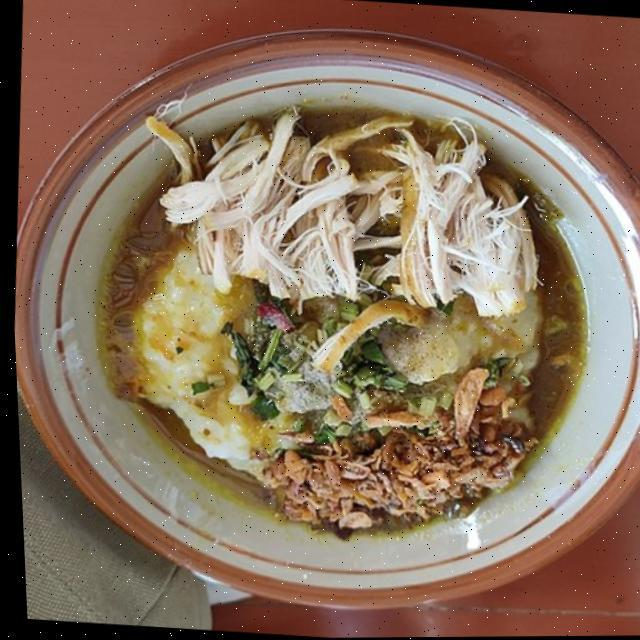bubur ayam: (70, 82, 614, 560)
mangkuk: (0, 0, 640, 635)
